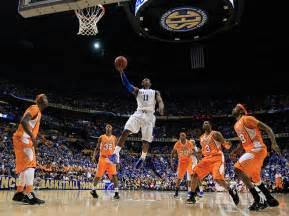basketball: (115, 56, 126, 68)
